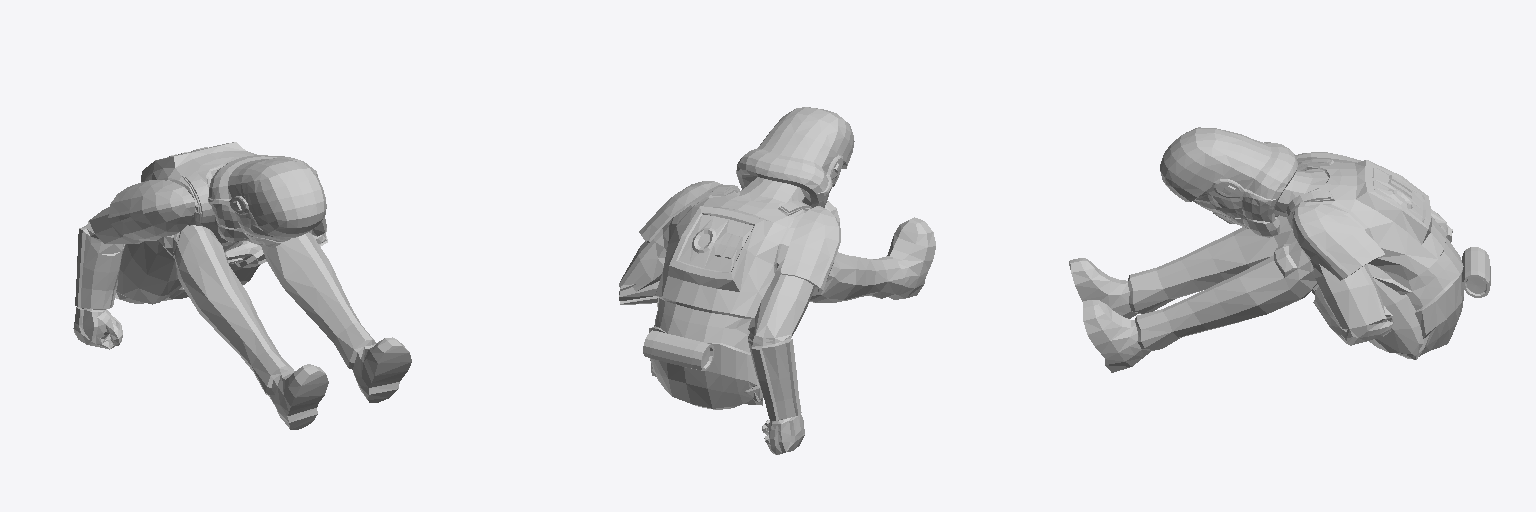
Rendered from Move_000263.obj.
3 views of the same model, side by side, from view 1: azimuth 30°, elevation 25°; view 2: azimuth 150°, elevation 25°; view 3: azimuth 270°, elevation 25° (orthographic).
Size of the model in its own units: 1.37 by 1.47 by 2.36.